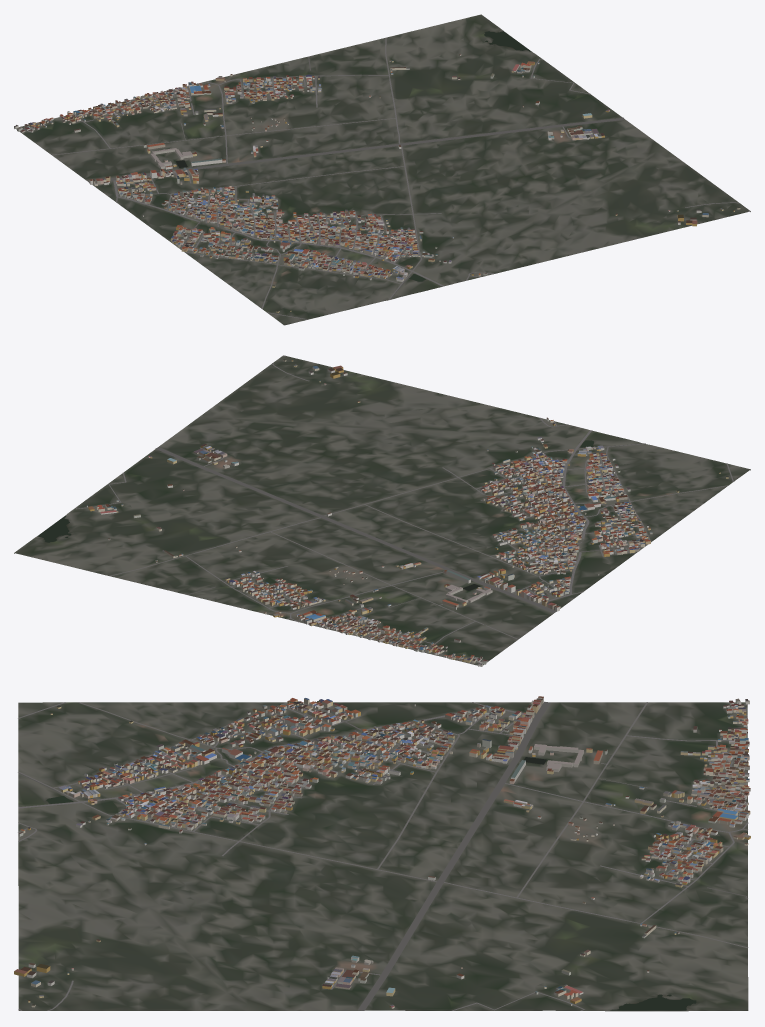
The picture shows the model from 3 angles, top to bottom: view 1: azimuth 30°, elevation 25°; view 2: azimuth 150°, elevation 25°; view 3: azimuth 270°, elevation 25°; orthographic projection. The views are drawn at different scales.
Parts seen in each view (by area): view 1: ground, buildings, roads, water; view 2: ground, buildings, roads, water; view 3: ground, buildings, roads, water.
Boxes of the visible parts, bbox=[...] form: ground: bbox=[16, 14, 750, 325]; buildings: bbox=[14, 54, 740, 312]; roads: bbox=[18, 37, 749, 319]; water: bbox=[176, 31, 531, 299]; ground: bbox=[14, 355, 750, 665]; buildings: bbox=[86, 359, 728, 666]; roads: bbox=[75, 355, 733, 665]; water: bbox=[37, 440, 644, 590]; ground: bbox=[18, 702, 748, 1011]; buildings: bbox=[14, 696, 750, 1008]; roads: bbox=[18, 701, 748, 1010]; water: bbox=[18, 757, 696, 1010].
Bounding box in the file's own units: 1408 × 20.53 × 1416.
